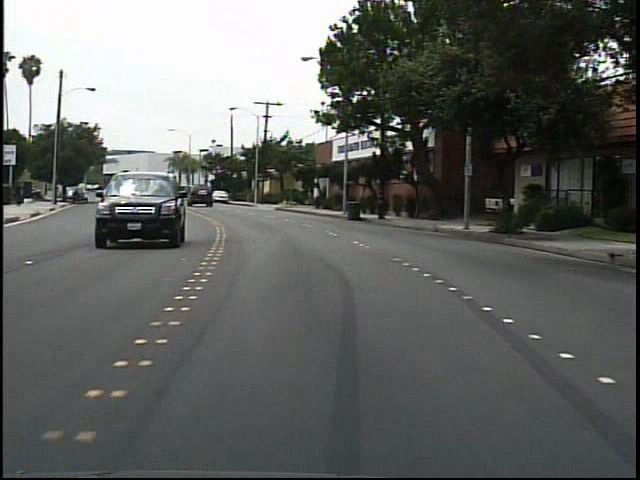person: (12, 179, 30, 208)
